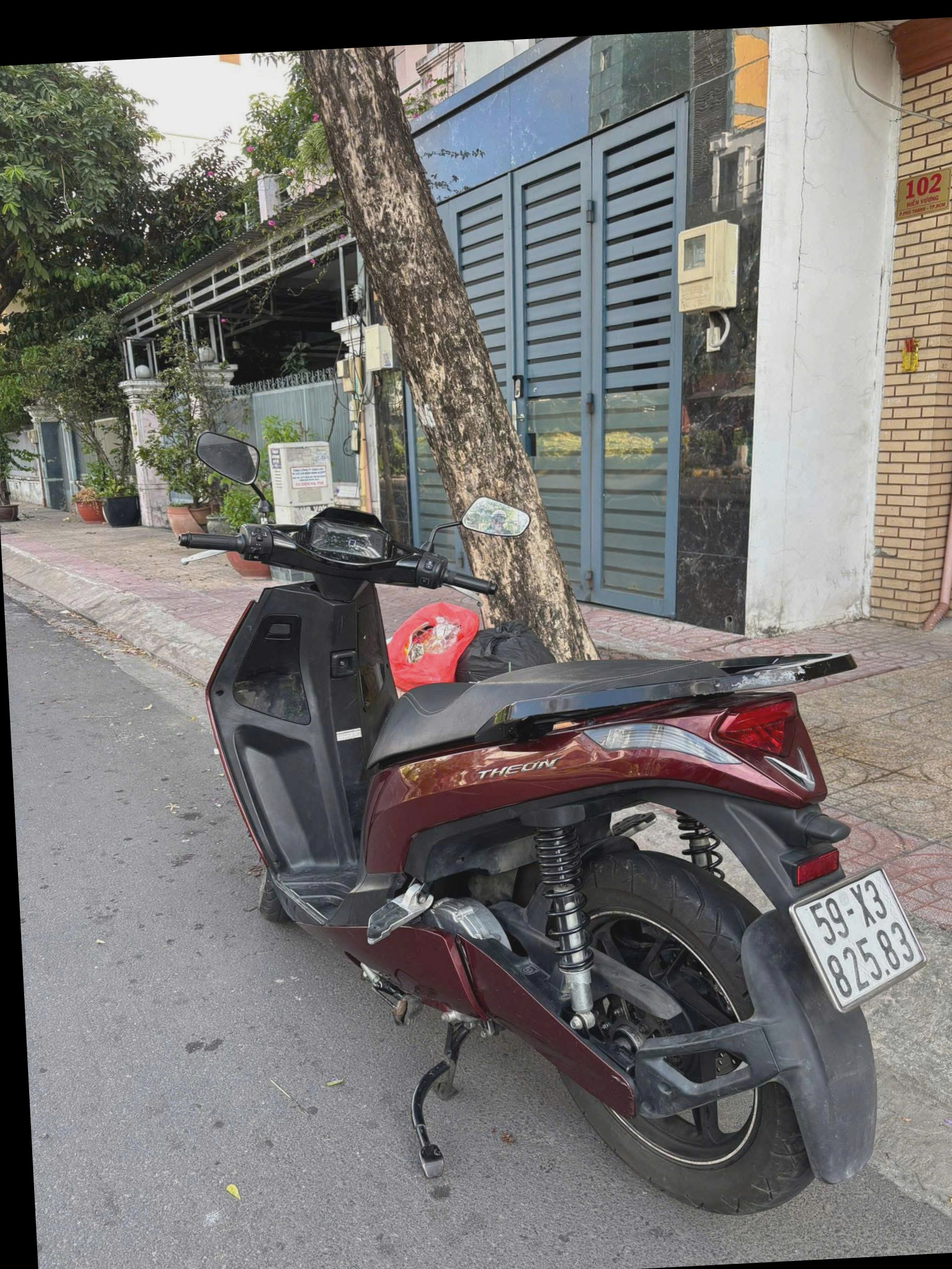Bien-so: (767, 874, 901, 1037)
